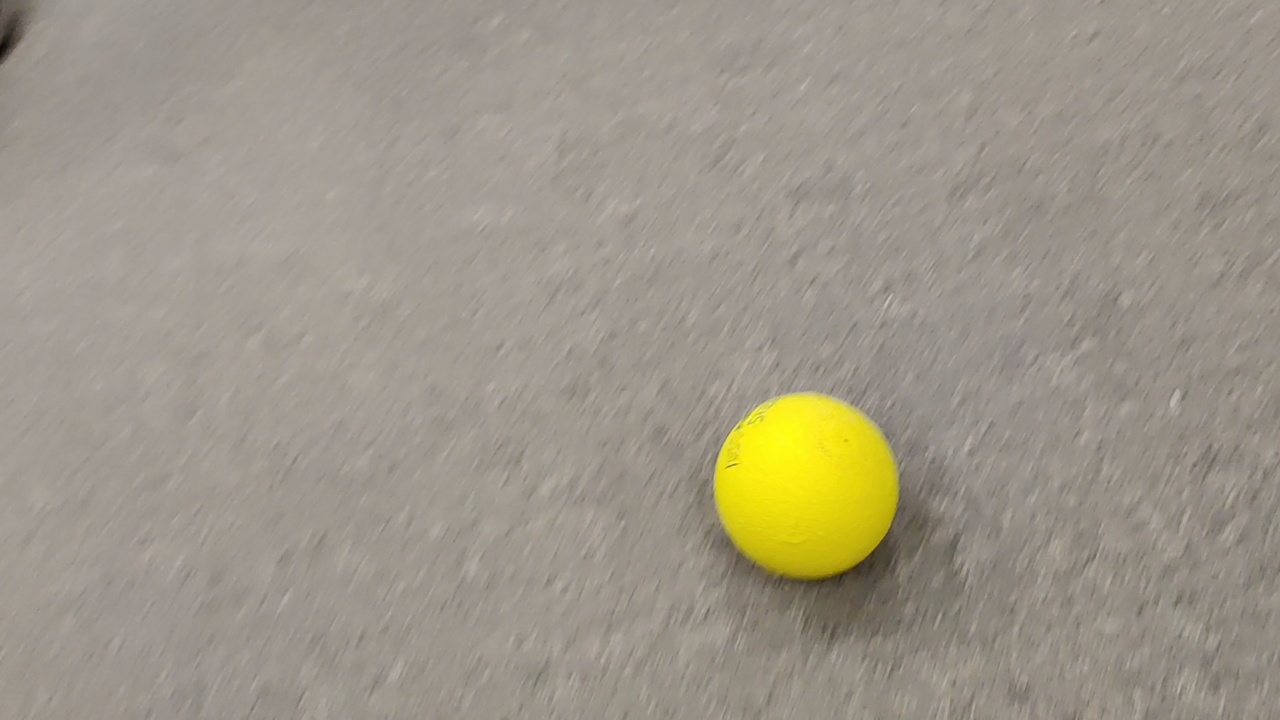Ball: (715, 393, 903, 587)
